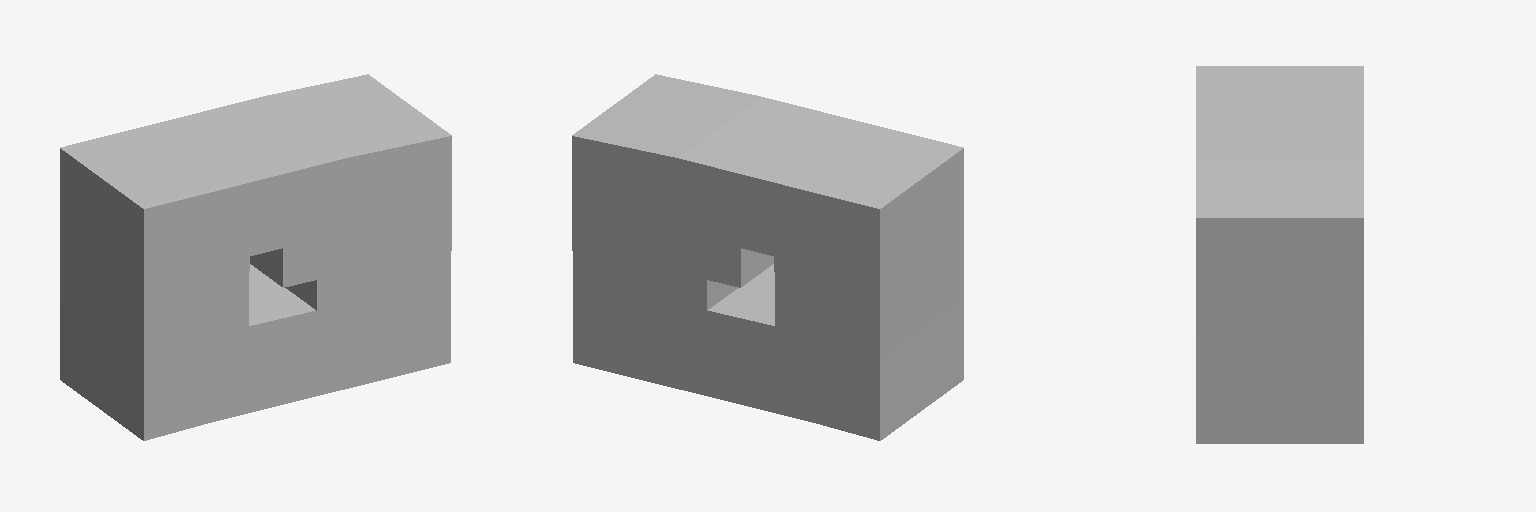
3 renders of one model, left to right at view 1: azimuth 30°, elevation 25°; view 2: azimuth 150°, elevation 25°; view 3: azimuth 270°, elevation 25°, orthographic.
Parts seen in each view (by area): view 1: couch, living_room, door, kitchen, bathroom, dinning_room; view 2: couch, living_room, door, kitchen, bathroom, dinning_room; view 3: living_room, dinning_room, couch, door.
Part boxes in pixels (left/top/right/bottom): couch: left=60, top=121, right=249, bottom=364; living_room: left=250, top=74, right=451, bottom=333; door: left=166, top=97, right=346, bottom=255; kitchen: left=211, top=264, right=355, bottom=422; bathroom: left=60, top=296, right=213, bottom=440; dinning_room: left=355, top=255, right=450, bottom=386; couch: left=774, top=121, right=963, bottom=364; living_room: left=572, top=74, right=773, bottom=333; door: left=677, top=97, right=857, bottom=255; kitchen: left=668, top=264, right=812, bottom=422; bathroom: left=810, top=296, right=963, bottom=440; dinning_room: left=573, top=255, right=668, bottom=386; living_room: left=1196, top=162, right=1363, bottom=335; dinning_room: left=1196, top=336, right=1363, bottom=443; couch: left=1196, top=66, right=1363, bottom=116; door: left=1196, top=117, right=1363, bottom=161.
Bounding box in the file's own units: 10.6 × 7.67 × 5.